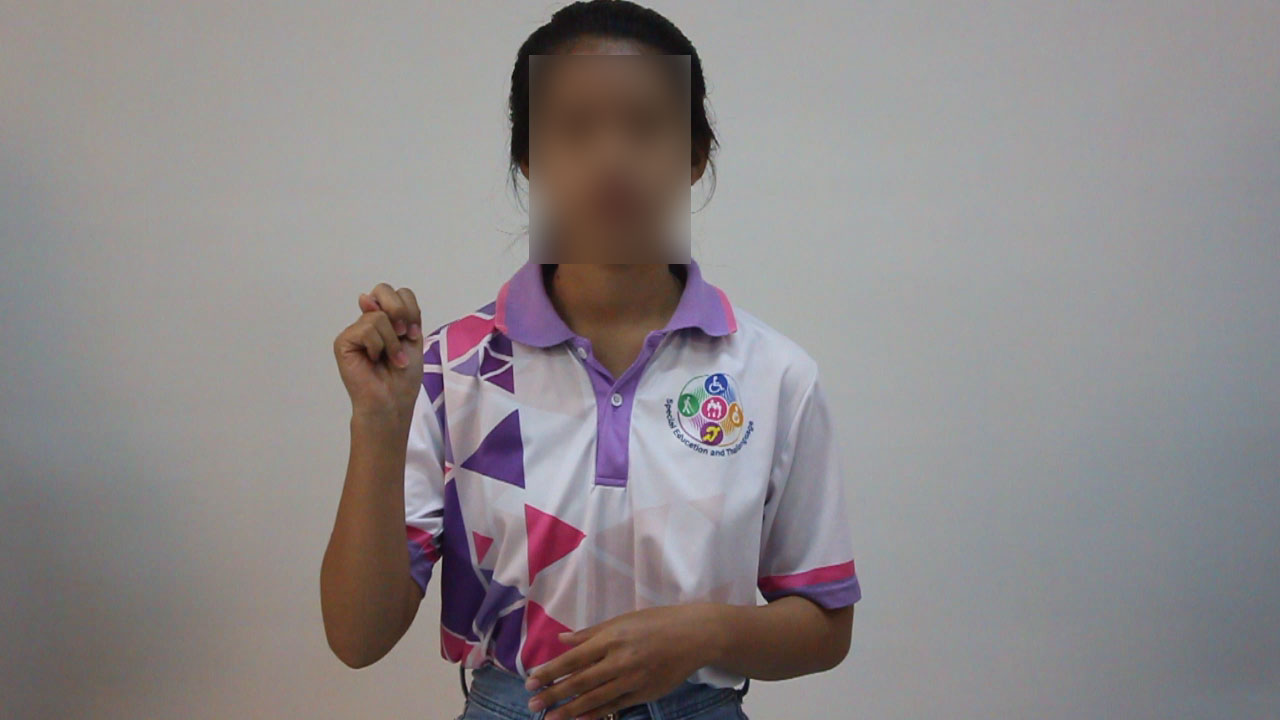nor: (325, 273, 431, 433)
